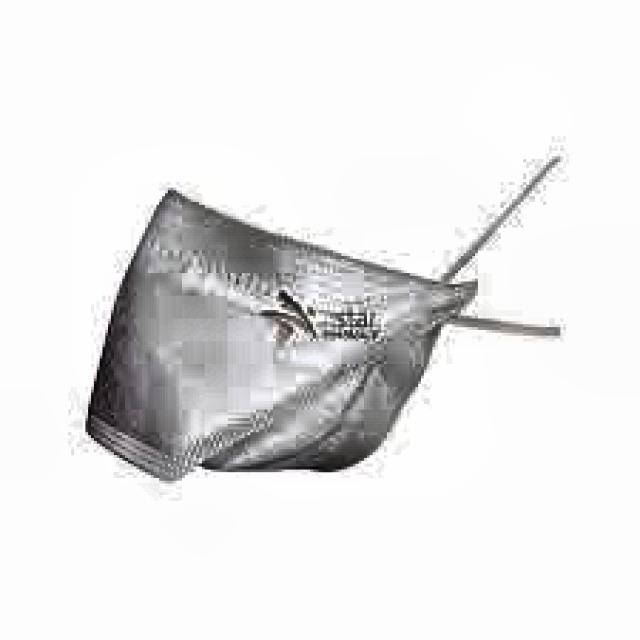trash: (80, 129, 568, 484)
